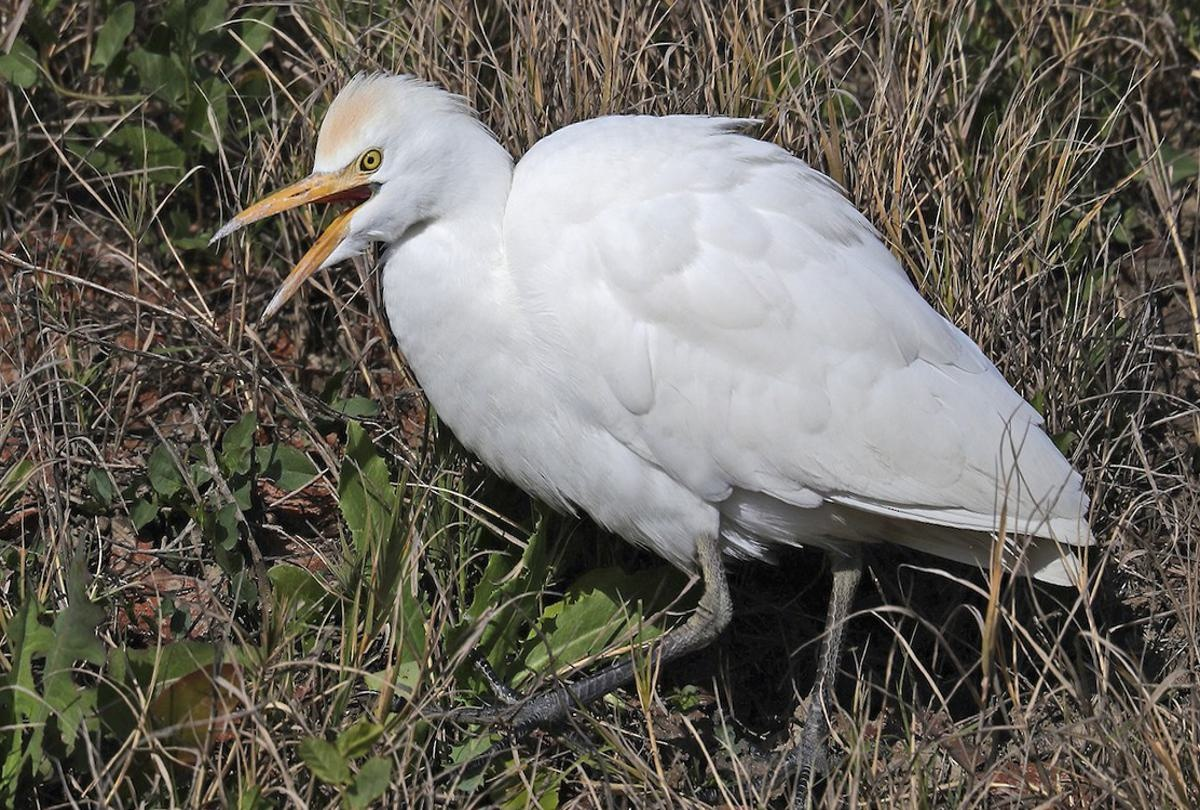egret: (193, 59, 1087, 672)
